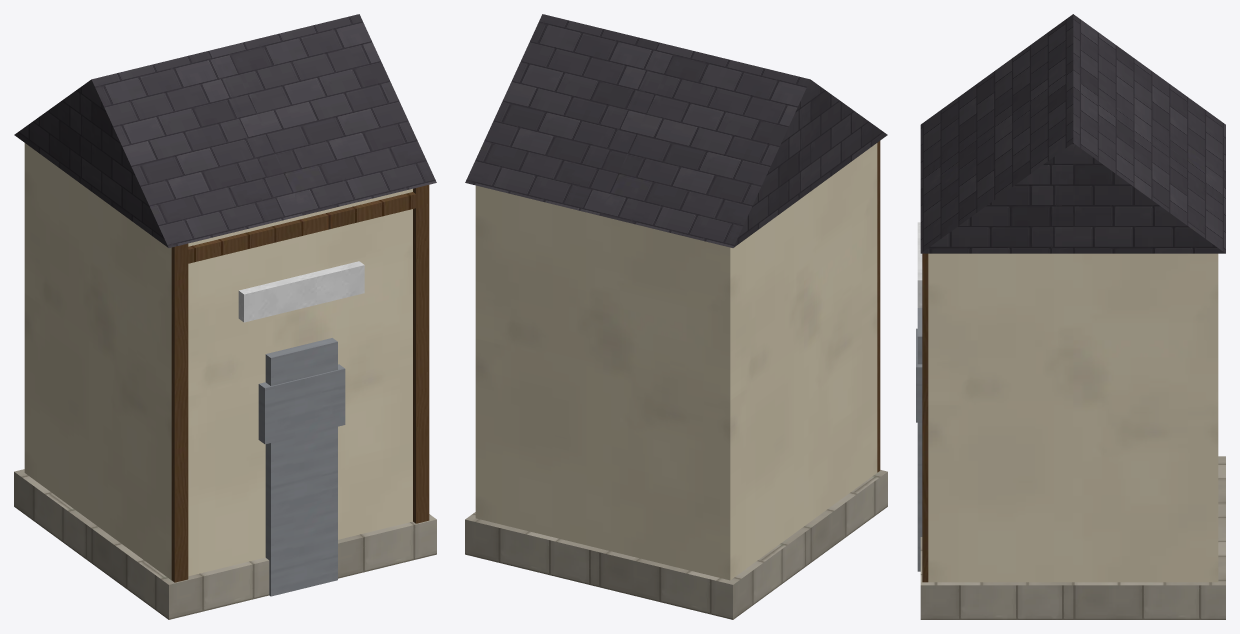
Rendered from category.lending.t1.glb.
3 renders of one model, left to right at view 1: azimuth 30°, elevation 25°; view 2: azimuth 150°, elevation 25°; view 3: azimuth 270°, elevation 25°, orthographic.
Visible parts, largest first — view 1: building.category.lending.t1; view 2: building.category.lending.t1; view 3: building.category.lending.t1.
Part boxes in pixels (x1,y1,x2,y2): building.category.lending.t1: (14, 14, 436, 619); building.category.lending.t1: (465, 14, 887, 619); building.category.lending.t1: (916, 14, 1225, 619).
Size of the model in its own units: 2 by 3.45 by 2.03.
Materials: 6 (6 with a texture image).
